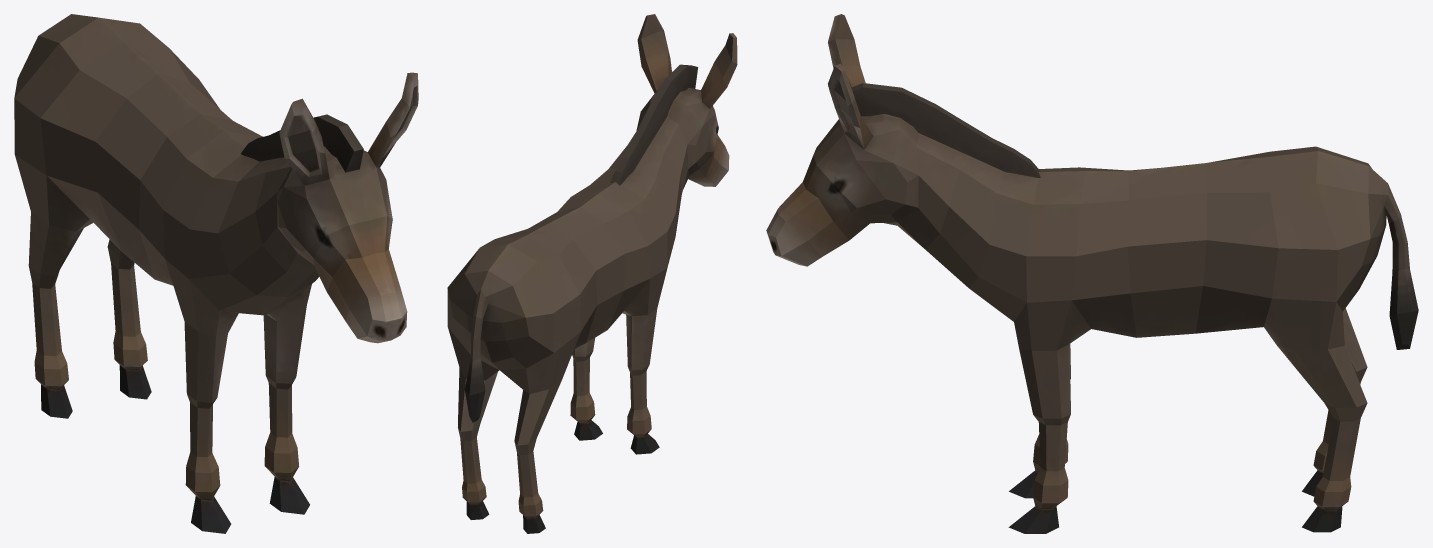
File: animals-donkey-075.glb
The picture shows the model from 3 angles, left to right: view 1: azimuth 30°, elevation 25°; view 2: azimuth 150°, elevation 25°; view 3: azimuth 270°, elevation 25°; orthographic projection. The views are drawn at different scales.
Parts seen in each view (by area): view 1: Donkey_mesh; view 2: Donkey_mesh; view 3: Donkey_mesh.
Part boxes in pixels (x1,y1,x2,y2): Donkey_mesh: [14, 14, 418, 533]; Donkey_mesh: [447, 14, 737, 533]; Donkey_mesh: [766, 14, 1418, 533].
Size of the model in its own units: 3.58 by 10.87 by 13.69.
1 material, 1 textured.
